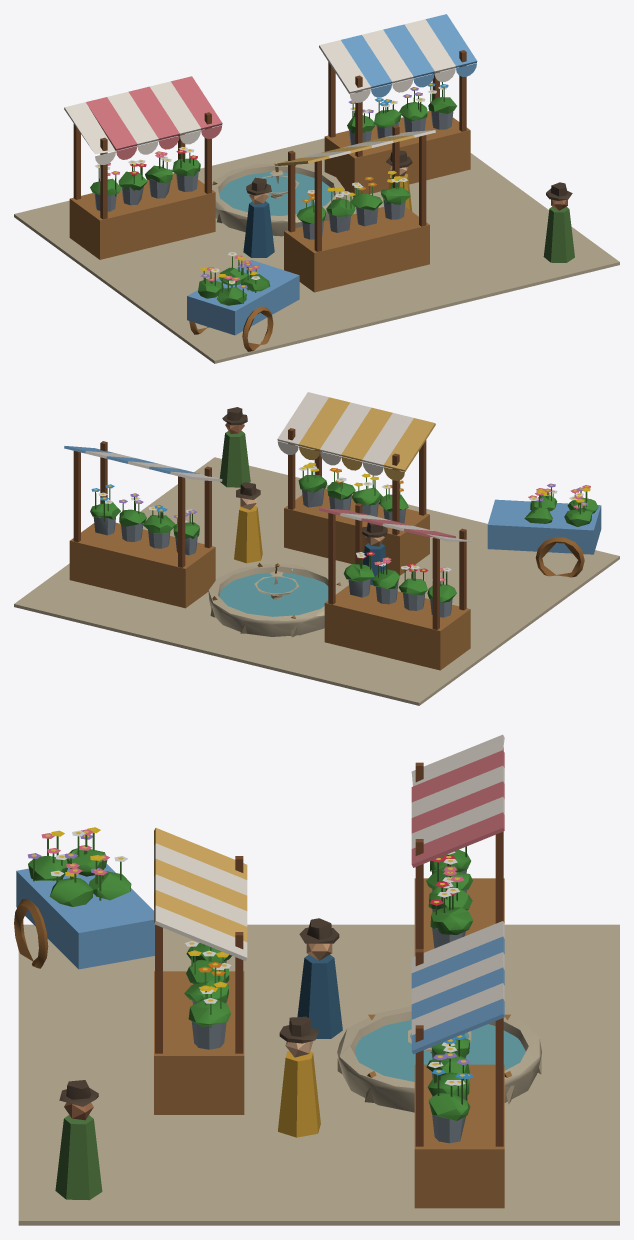
Rendered from flower_market.glb.
The picture shows the model from 3 angles, top to bottom: view 1: azimuth 30°, elevation 25°; view 2: azimuth 150°, elevation 25°; view 3: azimuth 270°, elevation 25°; orthographic projection. The views are drawn at different scales.
Visible parts, largest first — view 1: town-flower_market; view 2: town-flower_market; view 3: town-flower_market.
Part boxes in pixels (<box>): town-flower_market: <box>14,14,619,363</box>; town-flower_market: <box>14,392,619,705</box>; town-flower_market: <box>14,734,619,1225</box>.
Size of the model in its own units: 7.01 by 2.28 by 6.05.
